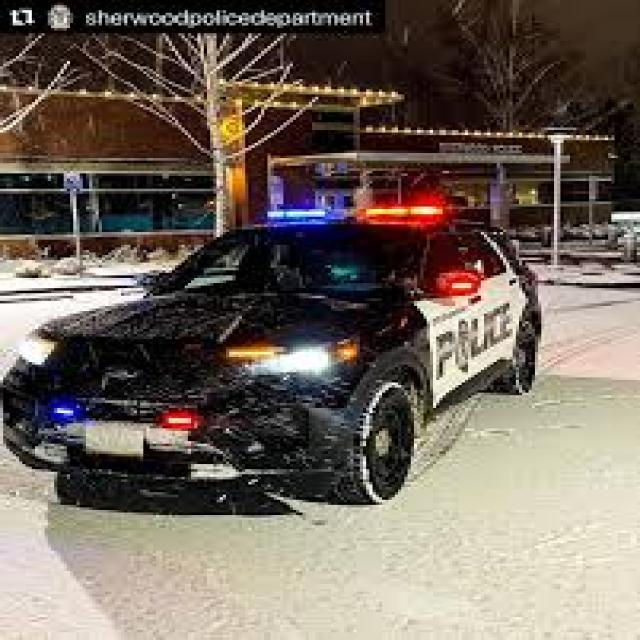cop: (0, 200, 546, 523)
